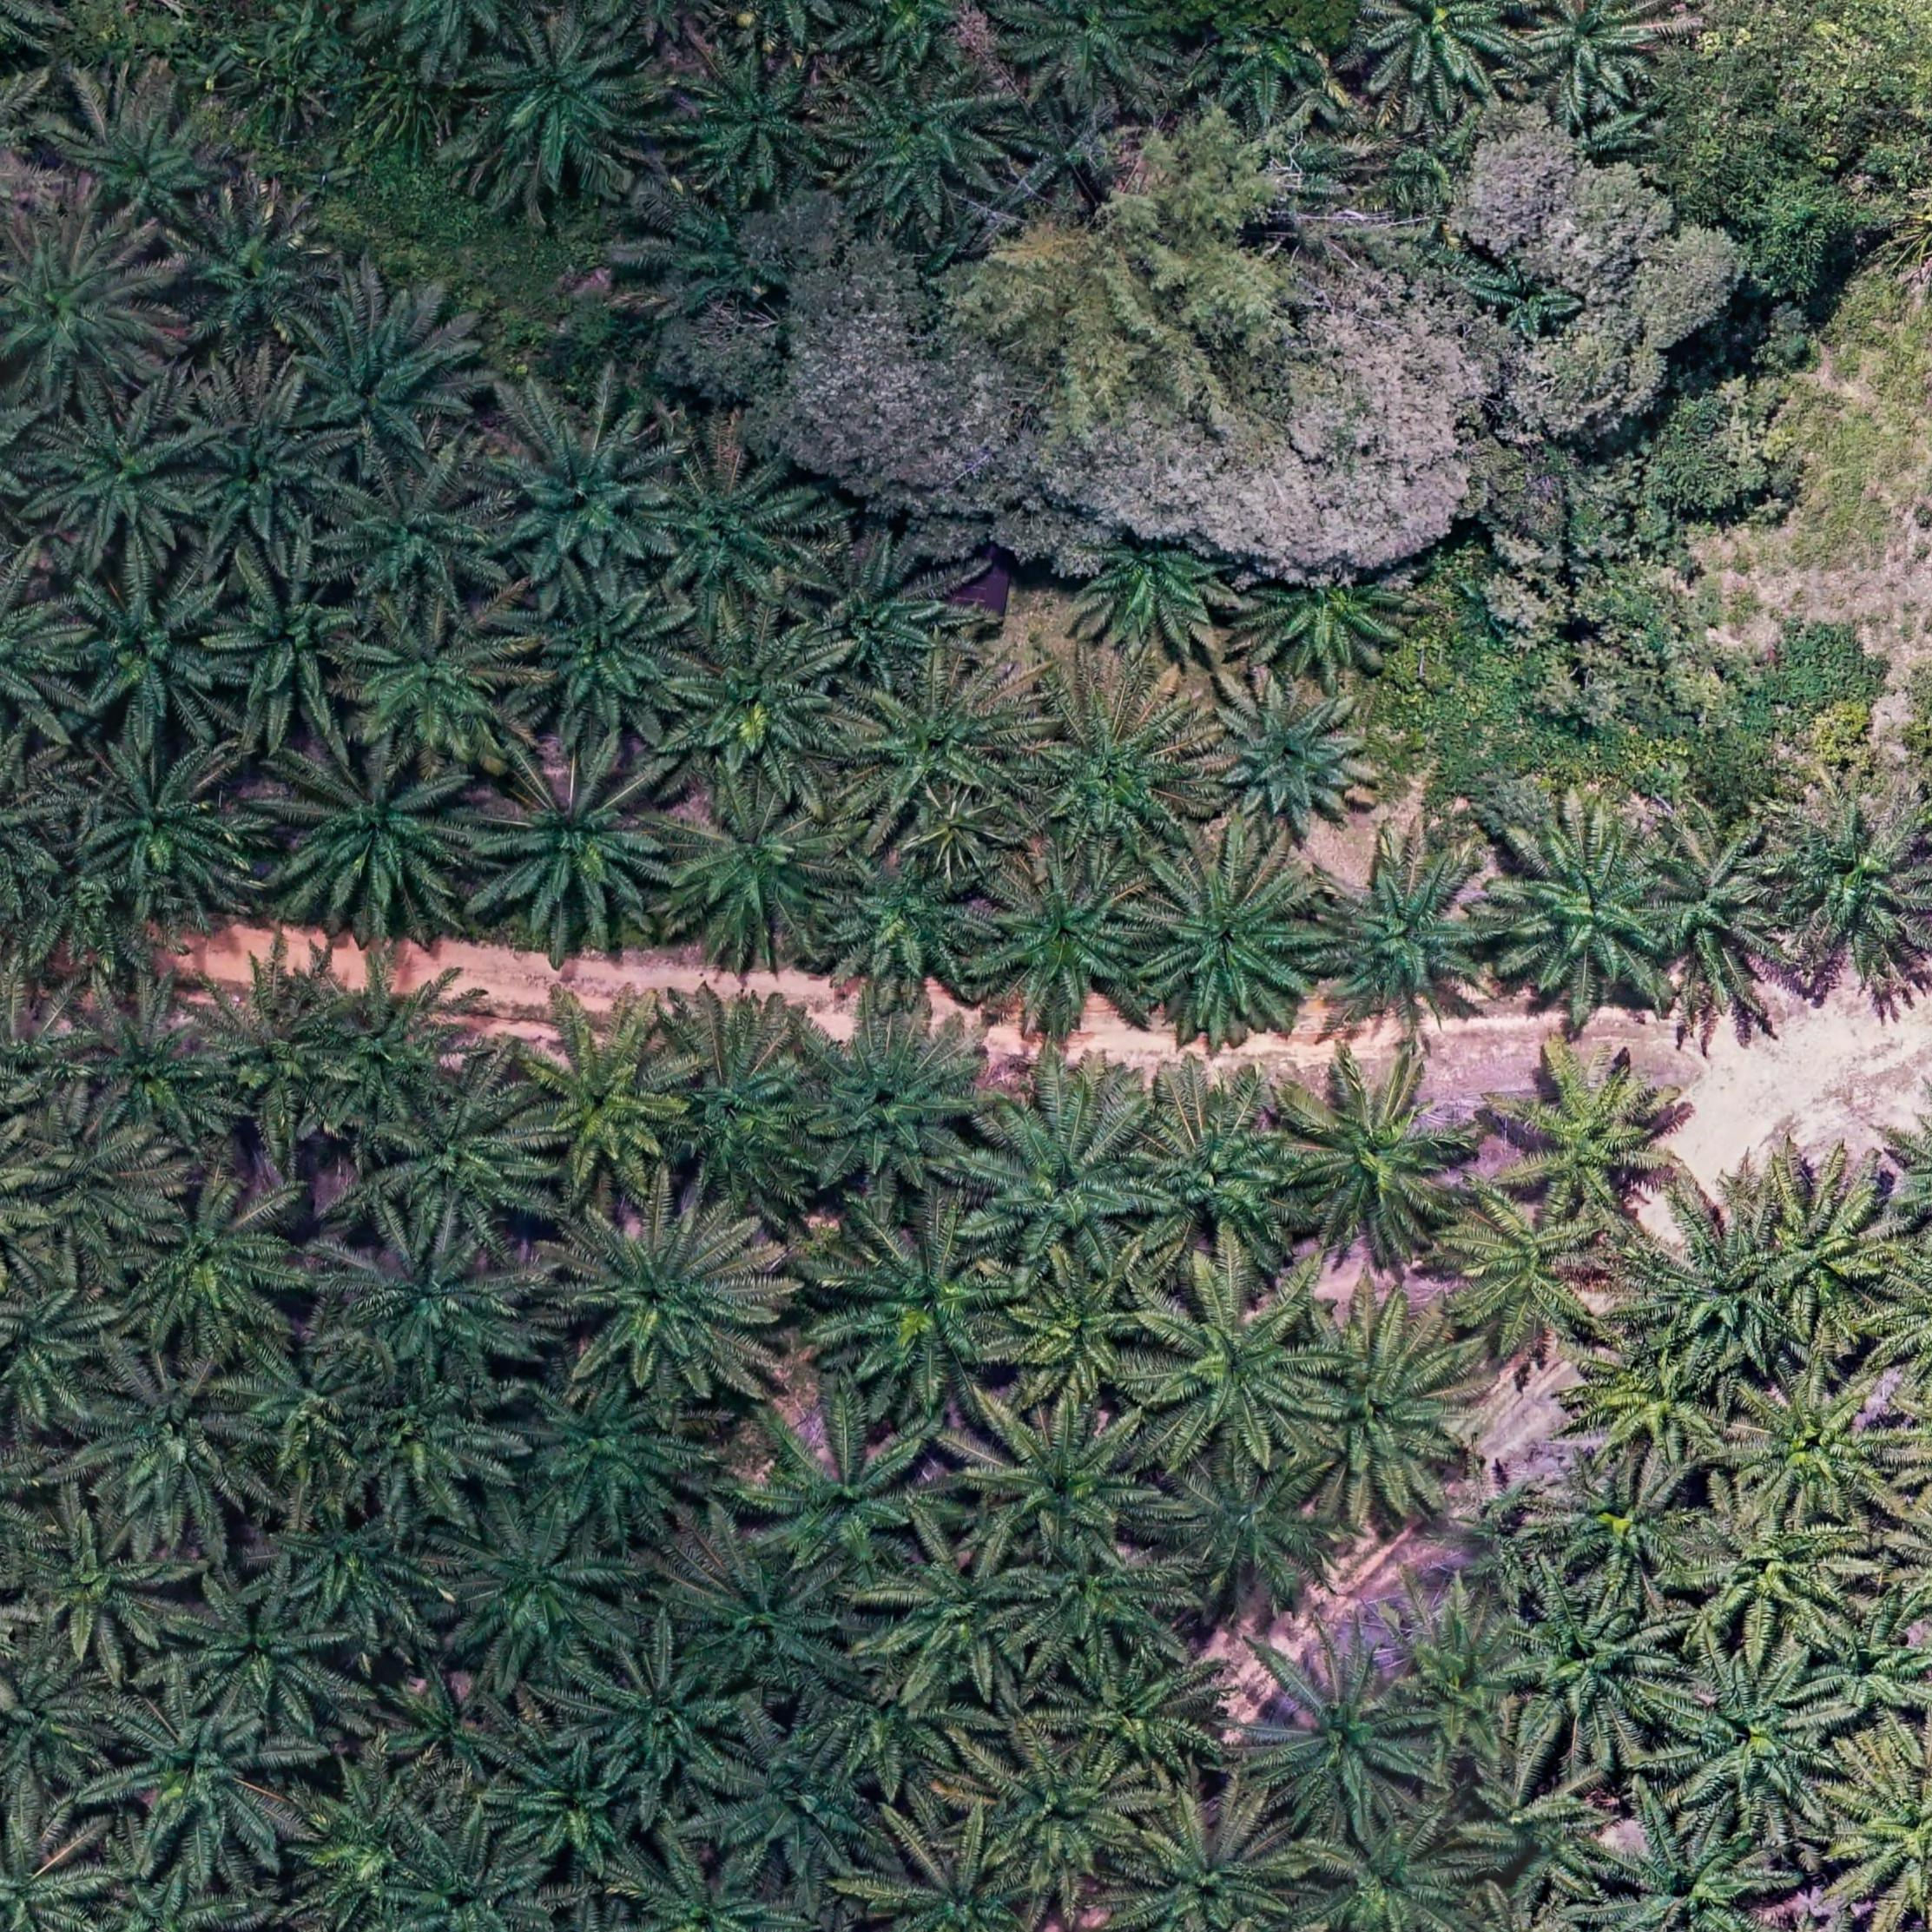palmtree: (543, 1187, 787, 1405), (812, 1203, 1030, 1410), (260, 732, 483, 932), (1276, 1049, 1484, 1260), (469, 740, 678, 941), (1302, 833, 1507, 1035), (1136, 1267, 1339, 1468), (1125, 837, 1327, 1039), (474, 396, 683, 591), (955, 1392, 1171, 1580), (962, 1081, 1168, 1277), (736, 1399, 955, 1582), (1486, 1039, 1686, 1238), (1246, 1635, 1445, 1833), (1292, 1309, 1481, 1516), (104, 1686, 304, 1874), (791, 1010, 994, 1194), (1488, 809, 1681, 1001), (1661, 1640, 1858, 1829), (108, 1175, 310, 1359), (81, 1343, 271, 1534), (962, 849, 1159, 1033), (46, 559, 244, 741), (0, 211, 172, 418), (62, 732, 257, 915), (327, 1214, 531, 1387), (1497, 1580, 1686, 1766), (1010, 683, 1205, 862), (281, 952, 479, 1127), (515, 1005, 702, 1189), (441, 1506, 635, 1683), (281, 295, 469, 478), (658, 780, 849, 959), (704, 1716, 899, 1891), (508, 568, 701, 743), (658, 619, 851, 793), (28, 389, 214, 568), (1125, 1092, 1315, 1267), (513, 1373, 711, 1539), (1753, 782, 1930, 966), (1157, 1447, 1350, 1614), (1725, 1366, 1914, 1532), (472, 12, 653, 184), (1684, 1490, 1872, 1654), (964, 1727, 1154, 1890), (644, 451, 828, 617), (839, 667, 1028, 828), (260, 1488, 453, 1645), (865, 1530, 1046, 1698), (370, 1081, 552, 1247), (173, 379, 347, 552), (830, 65, 1016, 226), (671, 1534, 856, 1695), (656, 1023, 828, 1196), (161, 189, 338, 357), (1196, 672, 1376, 837), (345, 598, 527, 761), (55, 987, 241, 1146), (1437, 1187, 1615, 1352), (1638, 1200, 1803, 1378), (327, 456, 511, 616), (1104, 1790, 1309, 1932), (211, 559, 380, 729), (338, 1362, 518, 1518), (170, 1568, 343, 1729), (571, 1635, 750, 1790), (814, 844, 991, 1000), (1445, 1744, 1615, 1905), (19, 1507, 195, 1663), (283, 1757, 448, 1921), (1560, 1320, 1736, 1474), (665, 46, 842, 198), (1582, 1808, 1794, 1932), (1051, 1638, 1231, 1783), (793, 538, 962, 692), (994, 1261, 1168, 1410), (1638, 823, 1790, 985), (57, 96, 228, 239), (1541, 1451, 1707, 1598), (1284, 1810, 1484, 1932), (1378, 1592, 1536, 1746), (1743, 1173, 1904, 1316), (11, 1099, 157, 1253), (1173, 0, 1359, 120), (646, 182, 805, 322), (814, 1658, 975, 1794), (495, 1744, 649, 1886), (1240, 566, 1417, 683), (234, 1330, 379, 1472), (0, 1267, 119, 1438), (1062, 545, 1240, 656), (373, 1665, 536, 1783), (1001, 0, 1180, 106), (384, 1824, 556, 1932), (0, 1640, 113, 1801), (1352, 0, 1522, 99), (1518, 0, 1665, 103), (1005, 94, 1136, 209), (1808, 1608, 1932, 1729), (0, 1808, 108, 1932)
